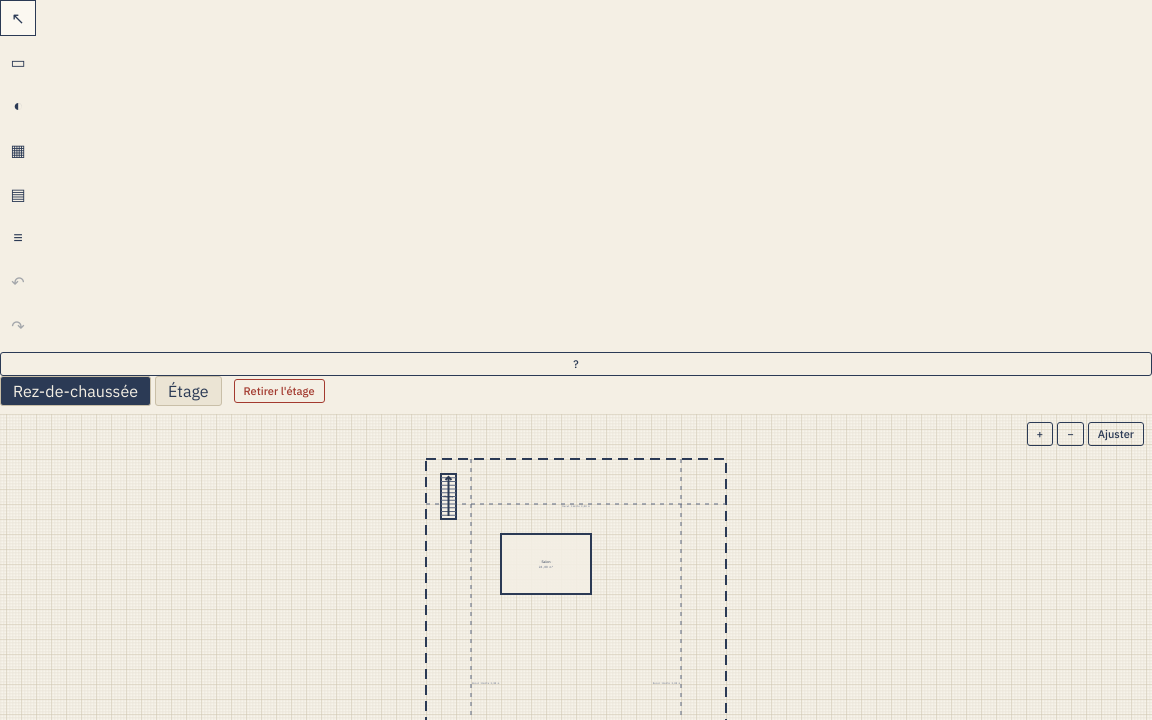
Test case: niveaux › annuler après le retrait rétablit l'étage, l'escalier et les onglets
What coordinates should you click on to do the following:
click the button "Retirer l'étage"
I would click on:
 (279, 391)
Its box is [234,379,325,403].
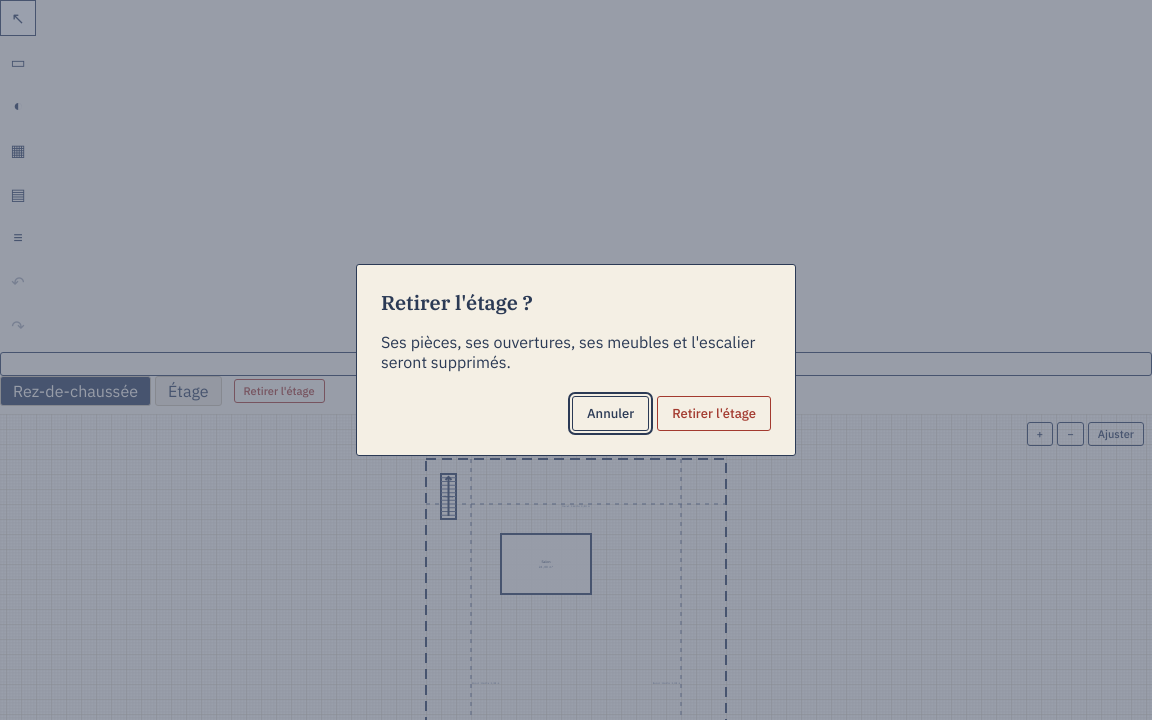
What coordinates should you click on to do the following:
click the button "Retirer l'étage" below "Retirer l'étage ?"
I would click on:
 (714, 414)
Its box is [657,396,771,431].
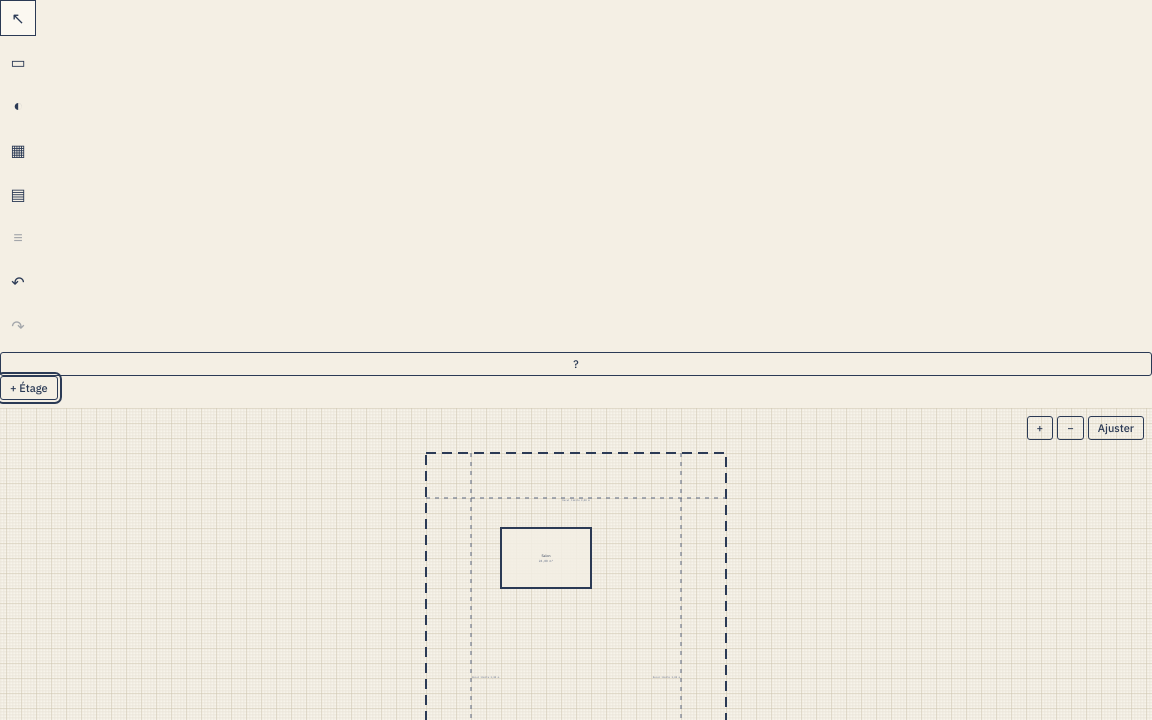
What coordinates should you click on to do the following:
click the button named "Annuler"
I would click on:
 (18, 282)
Its box is [0,264,36,300].
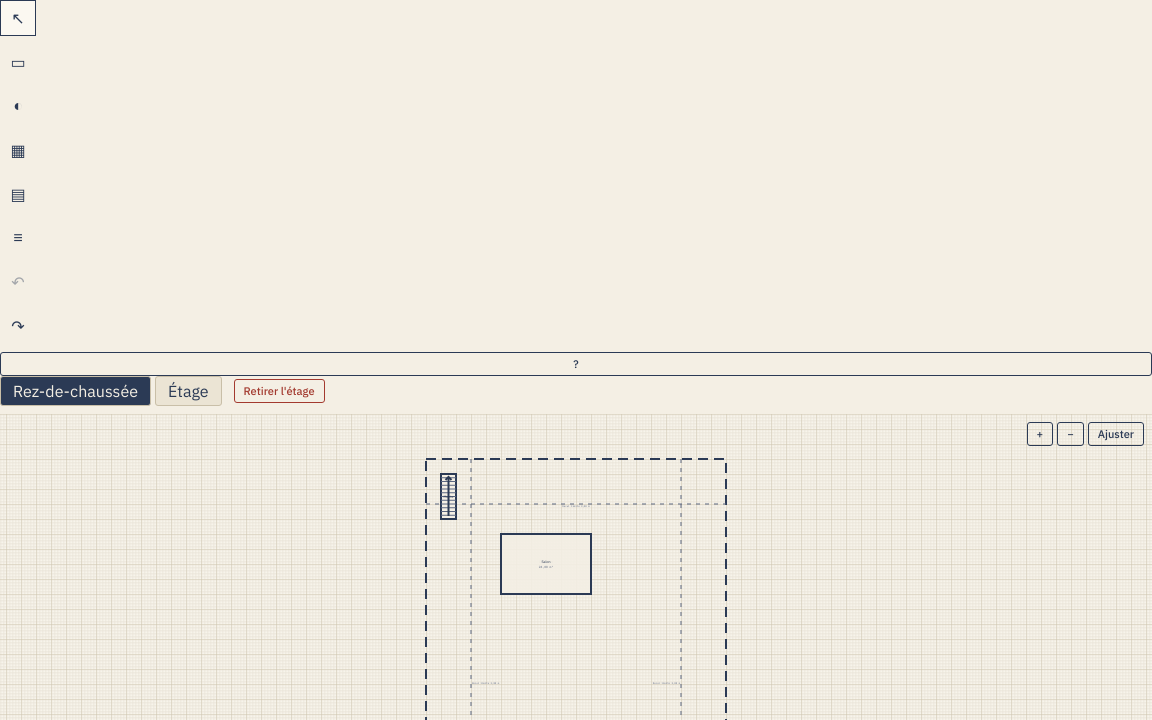
Check: the element showing "Rez-de-chaussée Étage" is shown, box [0,376,222,406]
